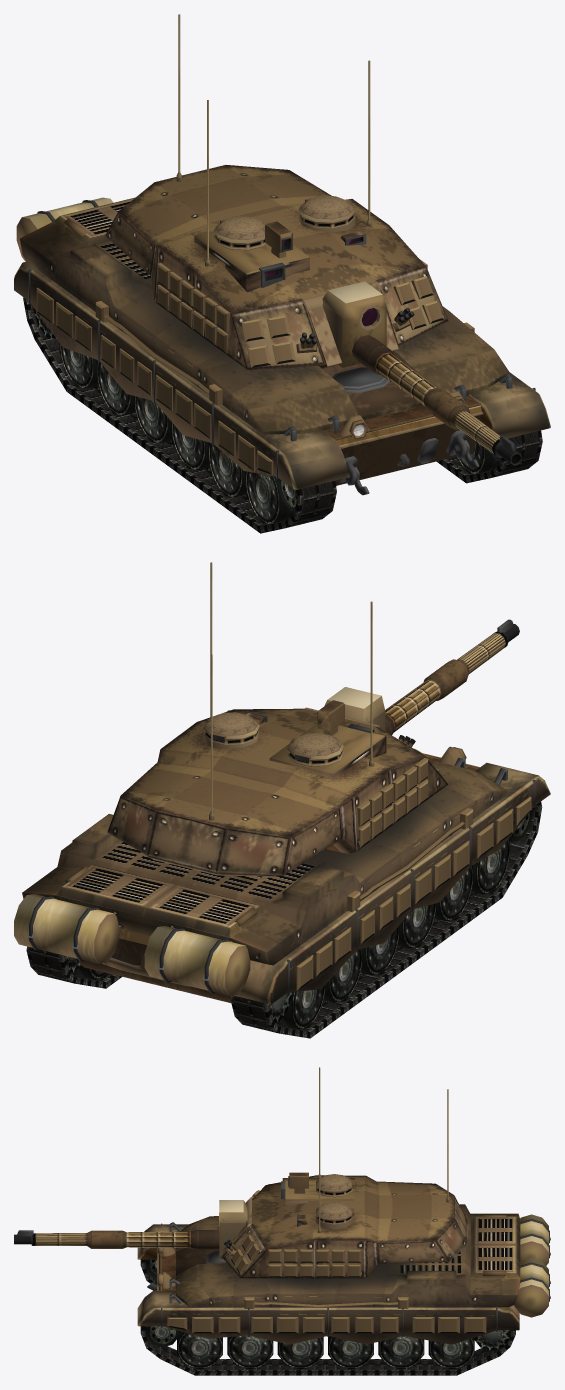
The model's file is Challenger.fbx.
The picture shows the model from 3 angles, top to bottom: view 1: azimuth 30°, elevation 25°; view 2: azimuth 150°, elevation 25°; view 3: azimuth 270°, elevation 25°; orthographic projection. The views are drawn at different scales.
Parts seen in each view (by area): view 1: polySurface271, polySurface332, polySurface269, polySurface333, pCylinder33, pCylinder34, pCylinder36, pCylinder37, pCylinder38, pCylinder35, pCylinder25; view 2: polySurface271, polySurface332, polySurface333, polySurface269, pCylinder33, pCylinder38, pCylinder35, pCylinder37, pCylinder34, pCylinder36; view 3: polySurface271, polySurface332, polySurface269, polySurface333, pCylinder25, pCylinder27, pCylinder30, pCylinder29, pCylinder28, pCylinder31, pCylinder24, pCylinder26.
Boxes of the visible parts, left/top/right/bottom form: polySurface271: left=14, top=165, right=550, bottom=495; polySurface332: left=105, top=14, right=448, bottom=369; polySurface269: left=303, top=281, right=522, bottom=465; polySurface333: left=23, top=297, right=542, bottom=533; pCylinder33: left=245, top=471, right=294, bottom=523; pCylinder34: left=208, top=442, right=247, bottom=497; pCylinder36: left=133, top=396, right=172, bottom=442; pCylinder37: left=96, top=360, right=135, bottom=415; pCylinder38: left=59, top=343, right=98, bottom=388; pCylinder35: left=171, top=421, right=209, bottom=469; pCylinder25: left=456, top=441, right=500, bottom=473; polySurface271: left=14, top=746, right=550, bottom=1004; polySurface332: left=107, top=562, right=447, bottom=876; polySurface333: left=26, top=802, right=542, bottom=1038; polySurface269: left=304, top=619, right=519, bottom=735; pCylinder33: left=471, top=838, right=509, bottom=894; pCylinder38: left=276, top=985, right=325, bottom=1029; pCylinder35: left=397, top=903, right=436, bottom=948; pCylinder37: left=323, top=949, right=362, bottom=1002; pCylinder34: left=434, top=865, right=472, bottom=921; pCylinder36: left=360, top=925, right=399, bottom=975; polySurface271: left=137, top=1204, right=550, bottom=1344; polySurface332: left=222, top=1067, right=467, bottom=1278; polySurface269: left=14, top=1199, right=251, bottom=1259; polySurface333: left=140, top=1259, right=515, bottom=1375; pCylinder25: left=177, top=1331, right=222, bottom=1369; pCylinder27: left=227, top=1335, right=273, bottom=1369; pCylinder30: left=378, top=1336, right=424, bottom=1369; pCylinder29: left=328, top=1336, right=373, bottom=1369; pCylinder28: left=277, top=1337, right=323, bottom=1369; pCylinder31: left=428, top=1338, right=474, bottom=1369; pCylinder24: left=145, top=1326, right=178, bottom=1347; pCylinder26: left=473, top=1330, right=509, bottom=1350.
Bounding box in the file's own units: 305 × 396 × 800.
